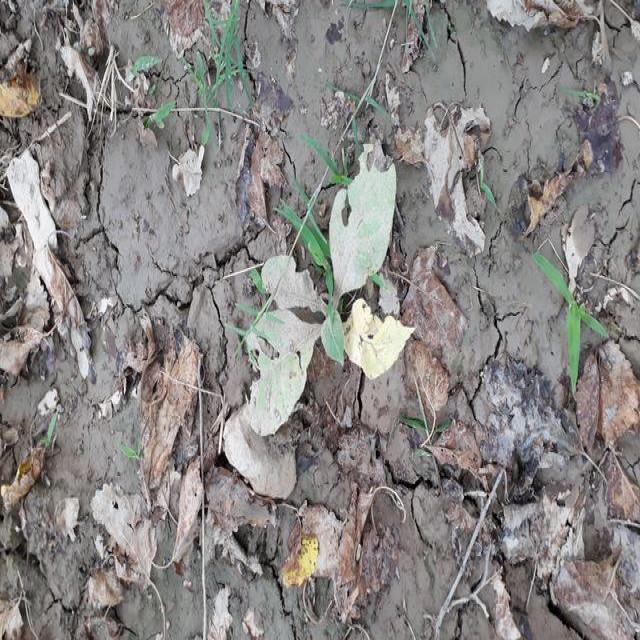crop: (236, 162, 414, 418)
